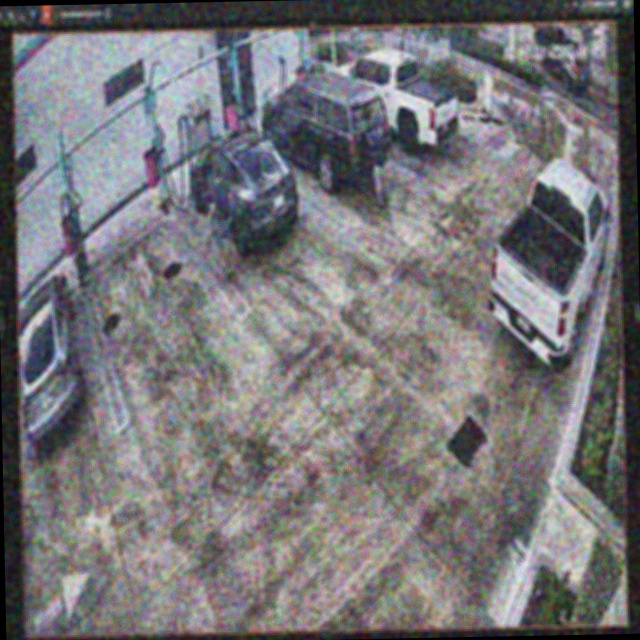Car: (261, 72, 389, 186), (188, 127, 296, 256), (332, 50, 459, 152)
